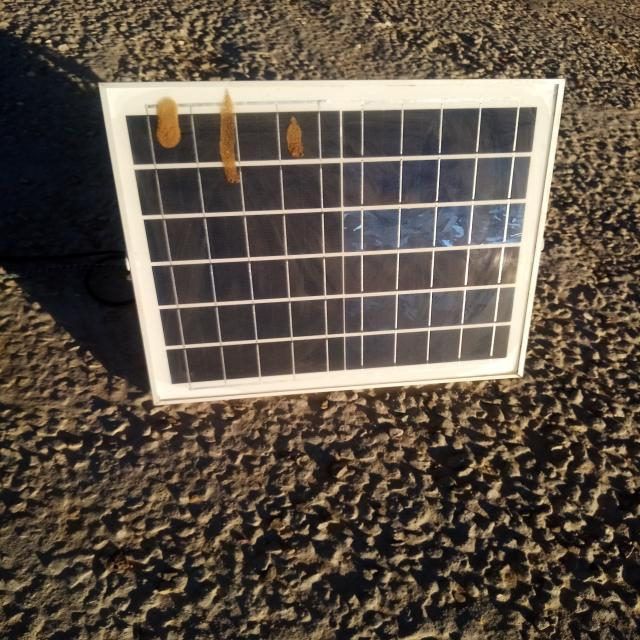faulty: (105, 82, 566, 402)
